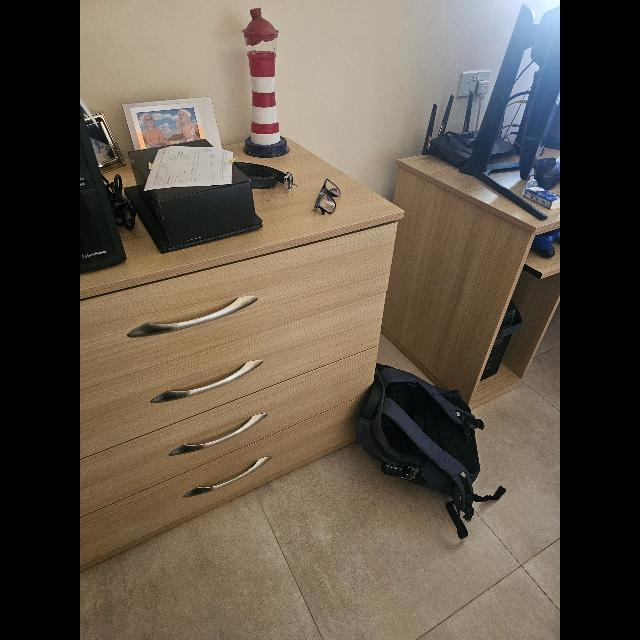glasses: (312, 179, 340, 215)
